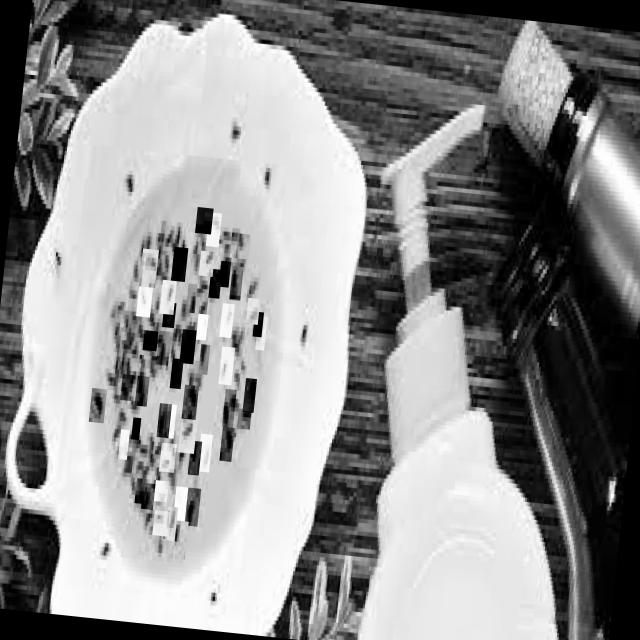fruit fly: (138, 248, 158, 288), (168, 520, 188, 559), (218, 346, 235, 385), (184, 487, 201, 526), (178, 418, 196, 454), (170, 247, 188, 282), (196, 433, 212, 472), (88, 388, 106, 422), (181, 385, 198, 420), (159, 280, 176, 315), (179, 330, 196, 364), (162, 506, 178, 542), (206, 212, 222, 248), (172, 486, 188, 521), (222, 389, 236, 428), (216, 214, 234, 244), (158, 442, 176, 472), (219, 427, 234, 462), (156, 403, 171, 438), (219, 303, 234, 338), (194, 207, 213, 234), (188, 440, 202, 476), (136, 286, 152, 317), (229, 266, 243, 301), (242, 378, 256, 413), (156, 331, 170, 366), (152, 510, 170, 536), (134, 375, 149, 406), (255, 316, 268, 350), (198, 250, 215, 276), (169, 358, 183, 389), (164, 404, 176, 439), (208, 268, 222, 298), (140, 482, 155, 510), (235, 233, 251, 259), (245, 298, 260, 324), (194, 288, 209, 314), (161, 302, 176, 328), (120, 374, 134, 401), (118, 428, 130, 459), (198, 344, 210, 374), (185, 283, 197, 313), (195, 313, 208, 340), (218, 260, 231, 287), (134, 478, 148, 503), (236, 408, 252, 429), (142, 330, 158, 351), (252, 311, 264, 337), (154, 480, 168, 502), (130, 417, 140, 440)
